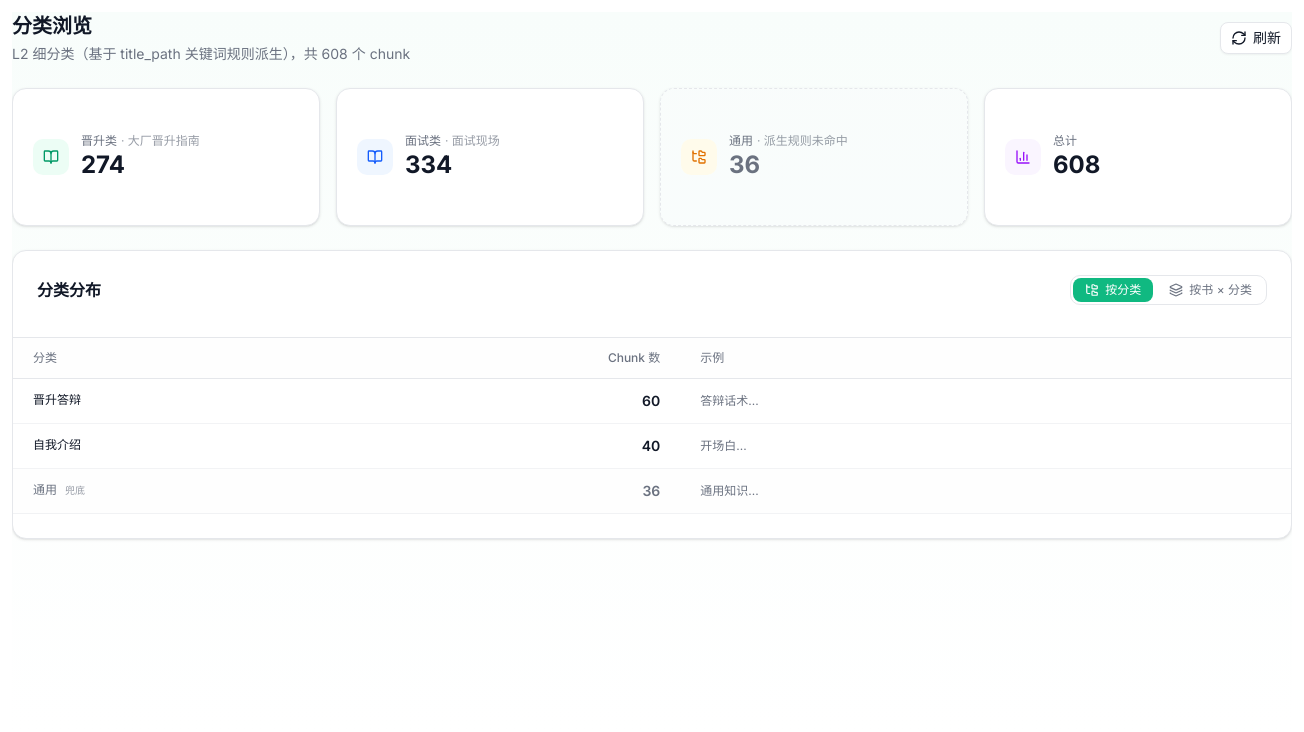
MetadataTab › (d) 切换到「按书 × 分类」显示交叉表
Expected: the row with test id "category-row-晋升答辩" is shown, left=13, top=378, right=1291, bottom=424
Click the button "按书 × 分类" at (1211, 290), box left=1157, top=278, right=1264, bottom=302
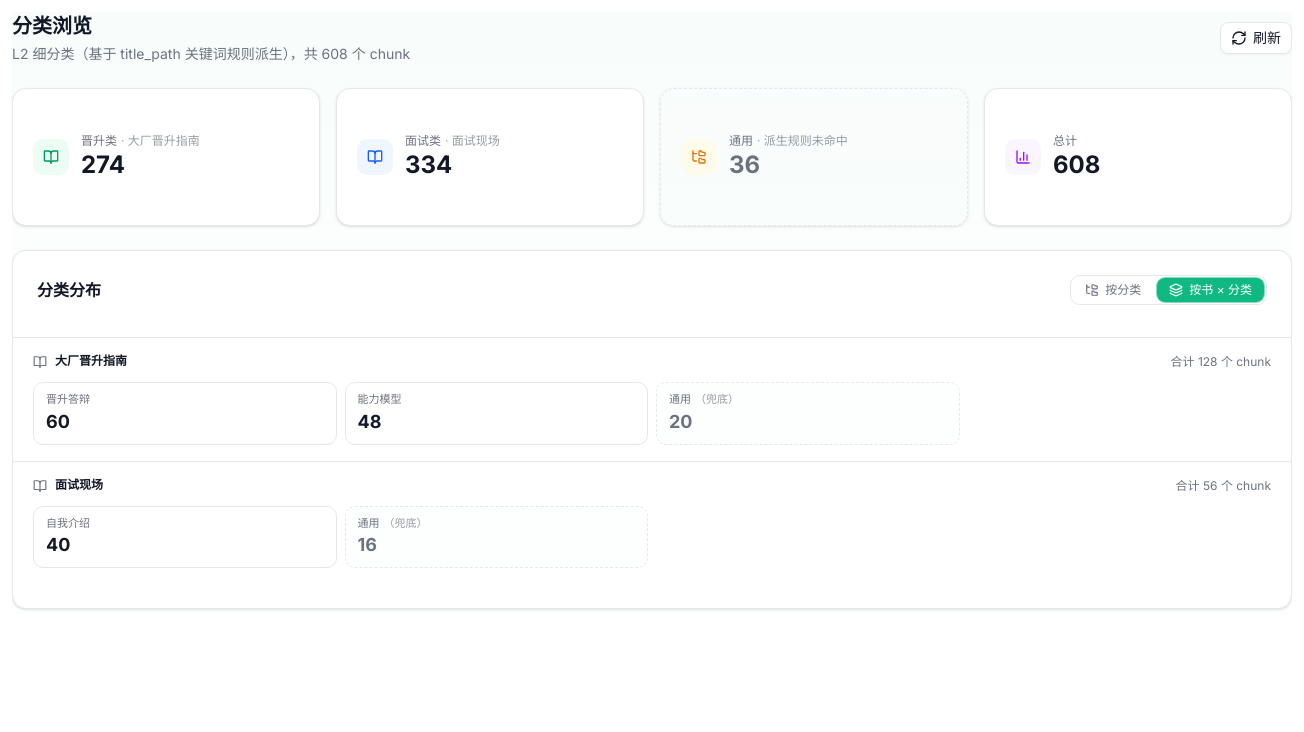
Now the element with test id "crosstab-book-大厂晋升指南" is shown, box left=13, top=338, right=1291, bottom=462
Now the element with test id "crosstab-book-面试现场" is shown, box left=13, top=462, right=1291, bottom=584
Now the row with test id "category-row-晋升答辩" is gone
